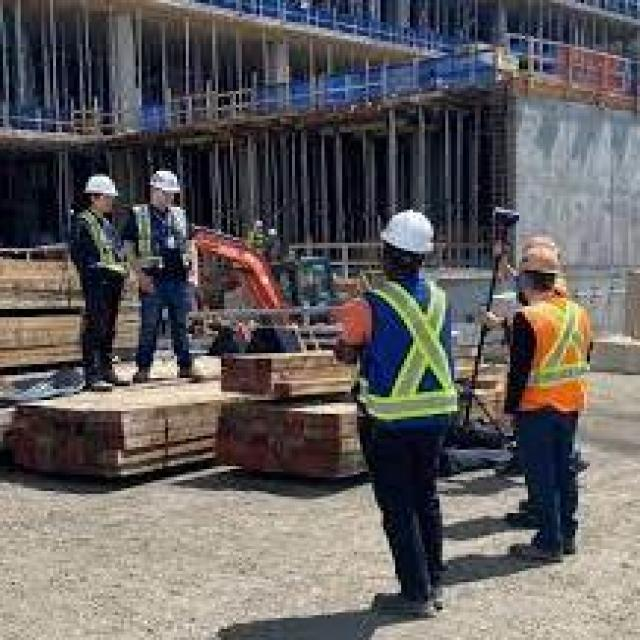Reflective-Jacket: (333, 276, 475, 438), (496, 295, 608, 425), (65, 207, 136, 284)
Safety-Helmet: (499, 223, 575, 290), (369, 201, 448, 265), (77, 168, 124, 204), (142, 166, 188, 202)
